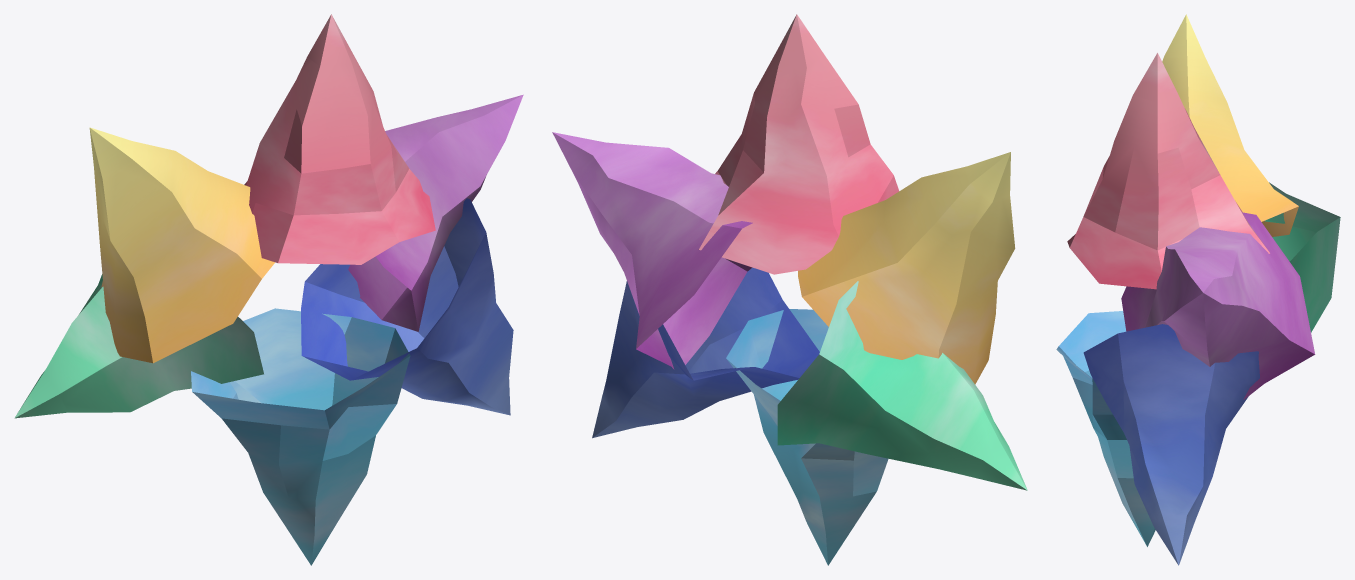
The model's file is MStest.fbx.
3 views of the same model, side by side, from view 1: azimuth 30°, elevation 25°; view 2: azimuth 150°, elevation 25°; view 3: azimuth 270°, elevation 25° (orthographic). The views are drawn at different scales.
Visible parts, largest first — view 1: pPyramid3, pPyramid1, pPyramid7, pPyramid6, pPyramid5, pPyramid4; view 2: pPyramid3, pPyramid1, pPyramid5, pPyramid4, pPyramid6, pPyramid7; view 3: pPyramid6, pPyramid1, pPyramid5, pPyramid3, pPyramid7, pPyramid4.
Part boxes in pixels (left/top/right/bottom): pPyramid3: left=89, top=127, right=274, bottom=363; pPyramid1: left=244, top=14, right=435, bottom=264; pPyramid7: left=191, top=308, right=410, bottom=565; pPyramid6: left=301, top=198, right=513, bottom=415; pPyramid5: left=348, top=94, right=523, bottom=331; pPyramid4: left=14, top=274, right=263, bottom=418; pPyramid3: left=798, top=152, right=1015, bottom=384; pPyramid1: left=698, top=14, right=898, bottom=274; pPyramid5: left=552, top=132, right=752, bottom=369; pPyramid4: left=777, top=281, right=1027, bottom=490; pPyramid6: left=592, top=267, right=819, bottom=438; pPyramid7: left=726, top=309, right=888, bottom=565; pPyramid6: left=1083, top=324, right=1259, bottom=565; pPyramid1: left=1067, top=53, right=1269, bottom=289; pPyramid5: left=1121, top=212, right=1315, bottom=399; pPyramid3: left=1162, top=14, right=1298, bottom=236; pPyramid7: left=1056, top=311, right=1155, bottom=546; pPyramid4: left=1264, top=182, right=1340, bottom=332.
Bounding box in the file's own units: 6.91 × 7.31 × 3.72.
Materials: 6 (6 with a texture image).
